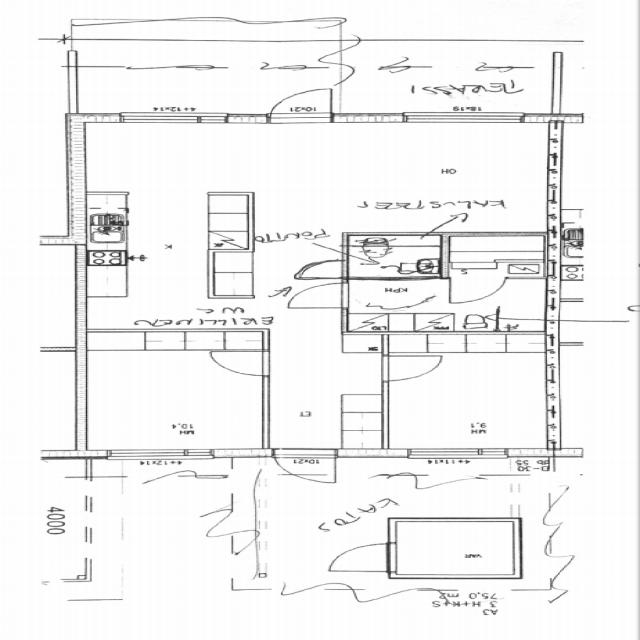door: (270, 448, 339, 484), (322, 540, 394, 574), (266, 86, 334, 121), (374, 352, 450, 382), (280, 280, 350, 311), (444, 274, 509, 306), (203, 348, 272, 378)
window: (398, 110, 531, 126), (99, 446, 222, 462), (112, 110, 232, 126), (402, 446, 509, 461)
zone: (76, 119, 554, 232), (74, 232, 346, 333), (80, 334, 268, 455), (380, 335, 558, 454), (343, 276, 556, 334), (388, 520, 520, 578), (441, 233, 551, 279), (342, 234, 444, 278)
